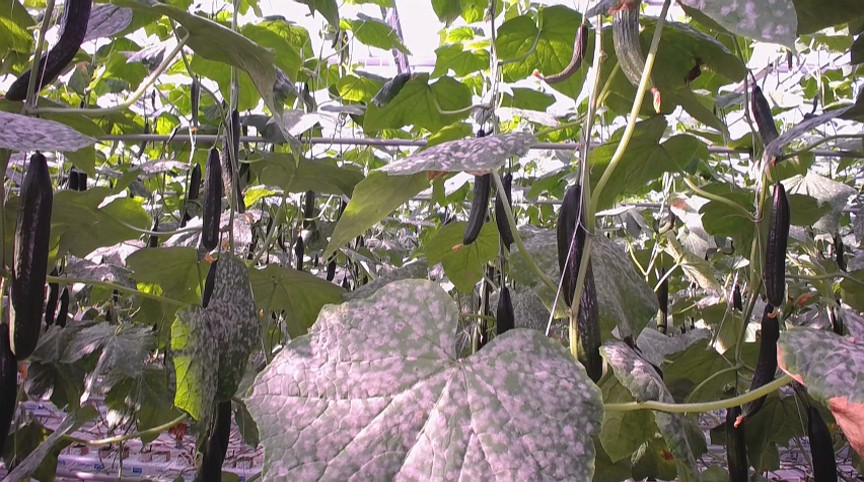cucumber: (559, 186, 605, 376), (10, 155, 51, 361), (5, 1, 90, 100), (613, 5, 653, 91), (748, 308, 780, 413), (765, 182, 785, 308), (223, 113, 246, 211), (807, 408, 838, 480), (464, 173, 491, 245), (749, 85, 782, 141), (202, 148, 220, 249), (496, 173, 517, 246), (495, 289, 516, 332)
